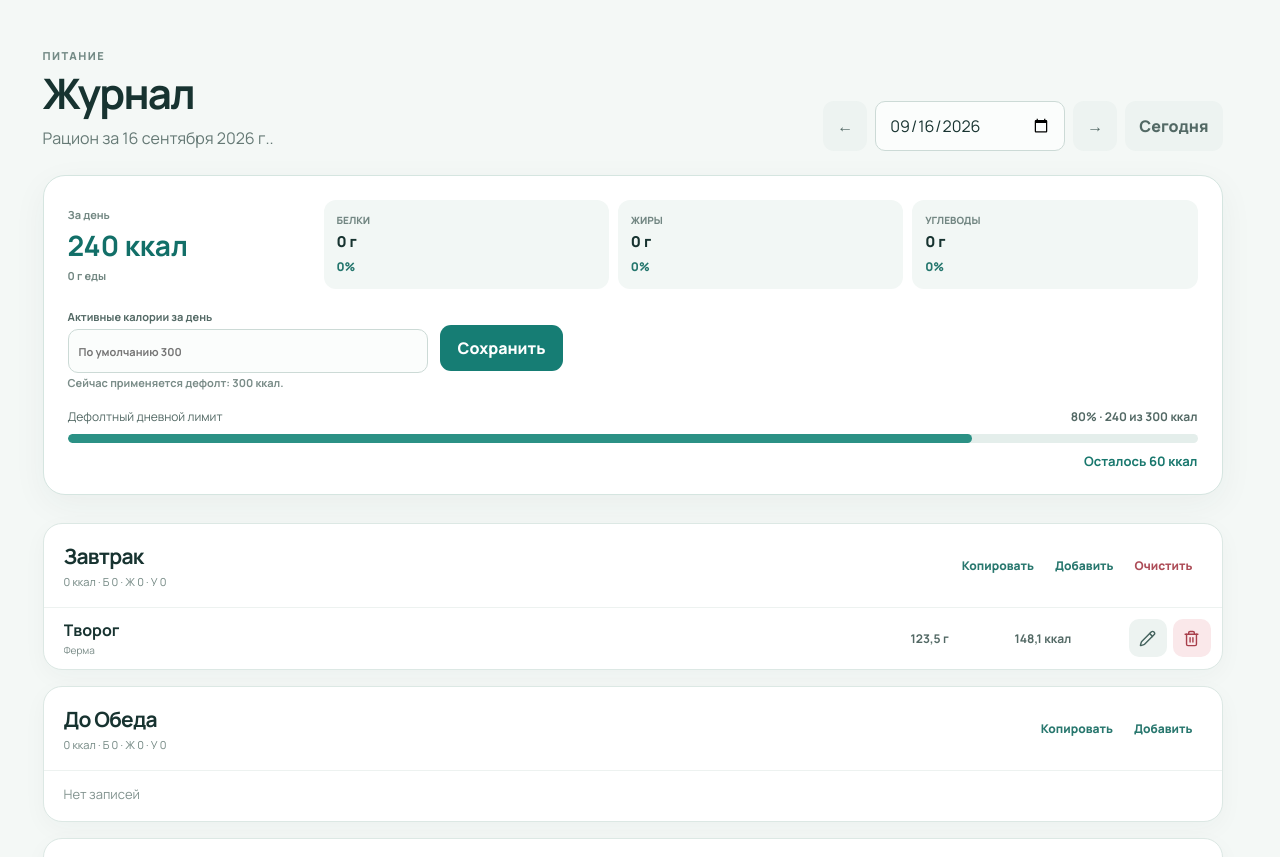
Test: активные калории в журнале › редактирует вес продукта прямо в журнале
Click the button named "Редактировать Творог в завтрак": [1148, 638] box [1128,619,1166,657]
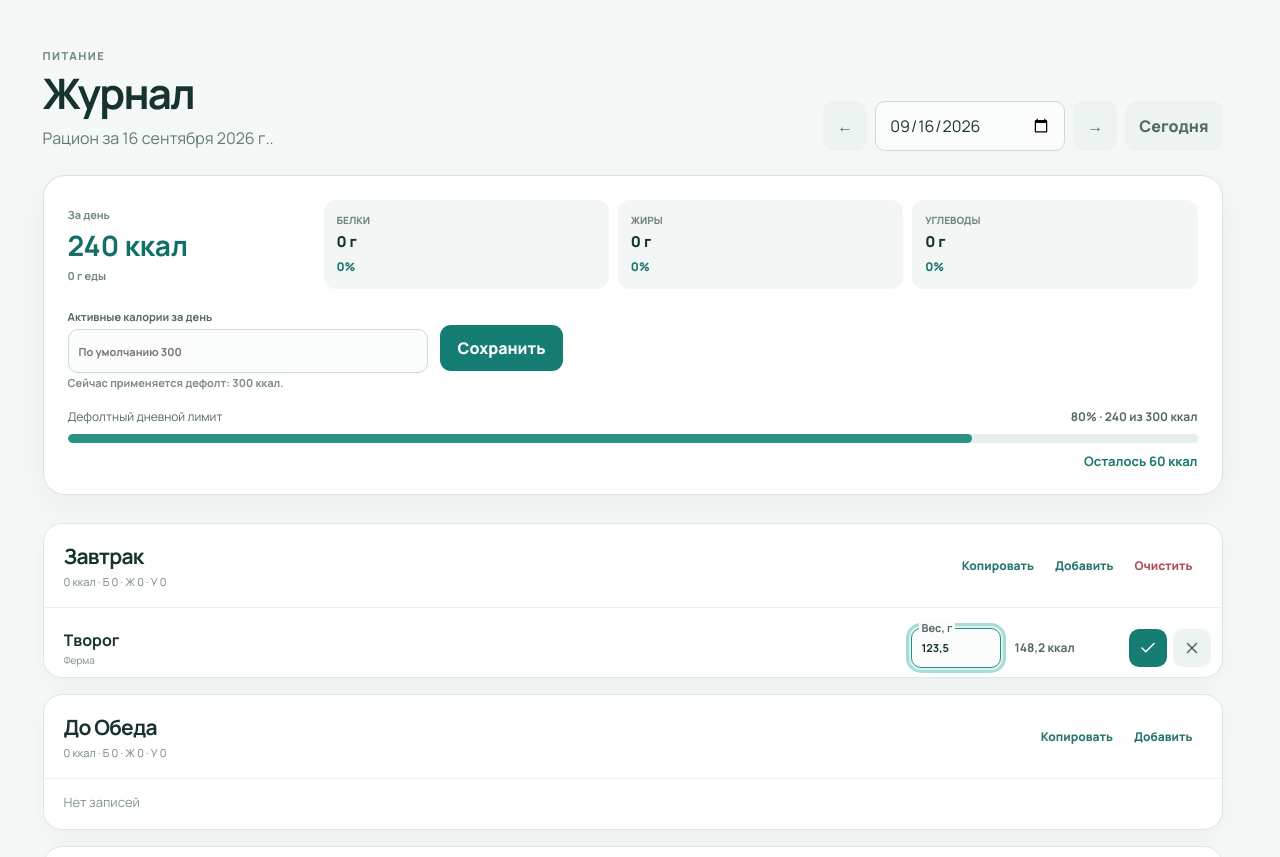
Expected: the field named "Вес продукта Творог" holds "123,5"
Replace the text in the field named "Вес продукта Творог" with "150,5": [956, 648] box [910,628,1000,668]
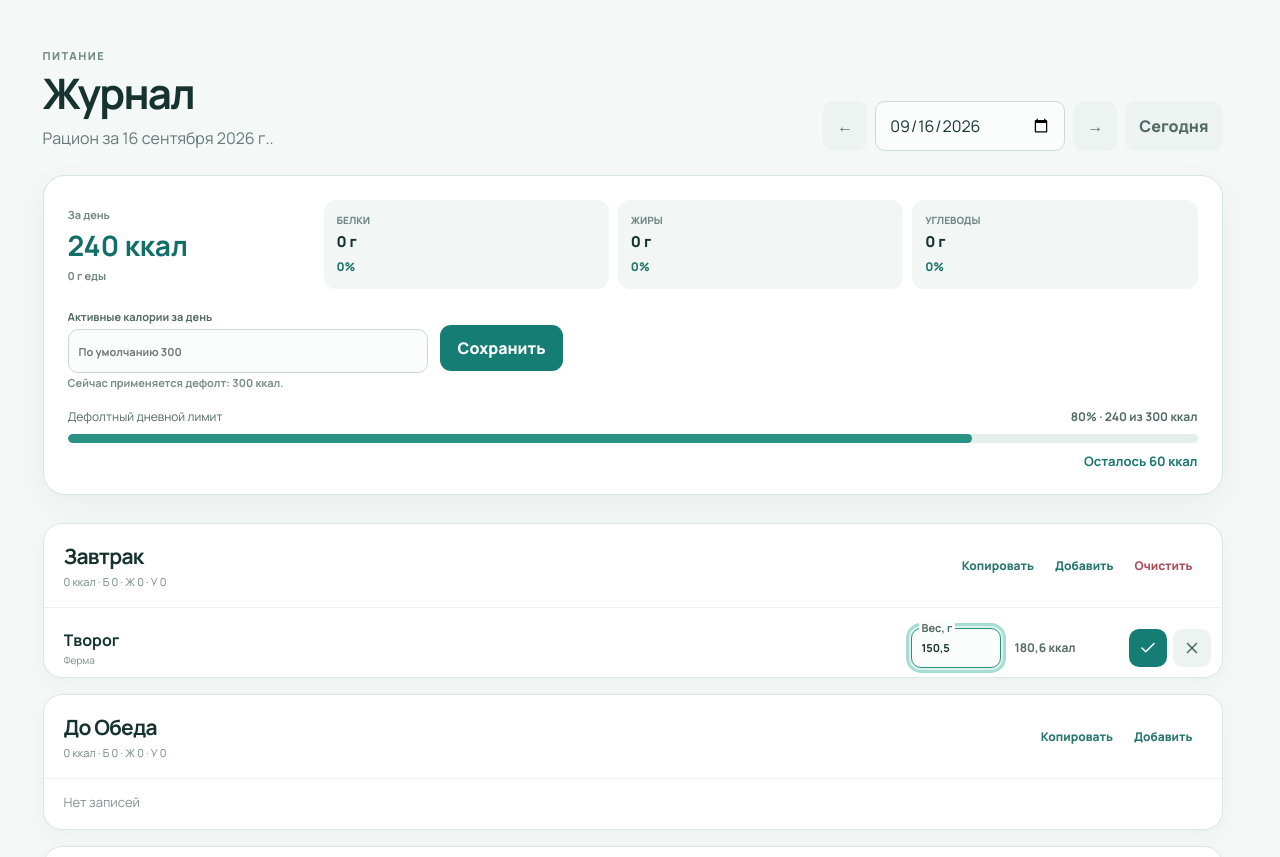
Click the button named "Сохранить вес продукта Творог": [1148, 648] box [1128,629,1166,667]
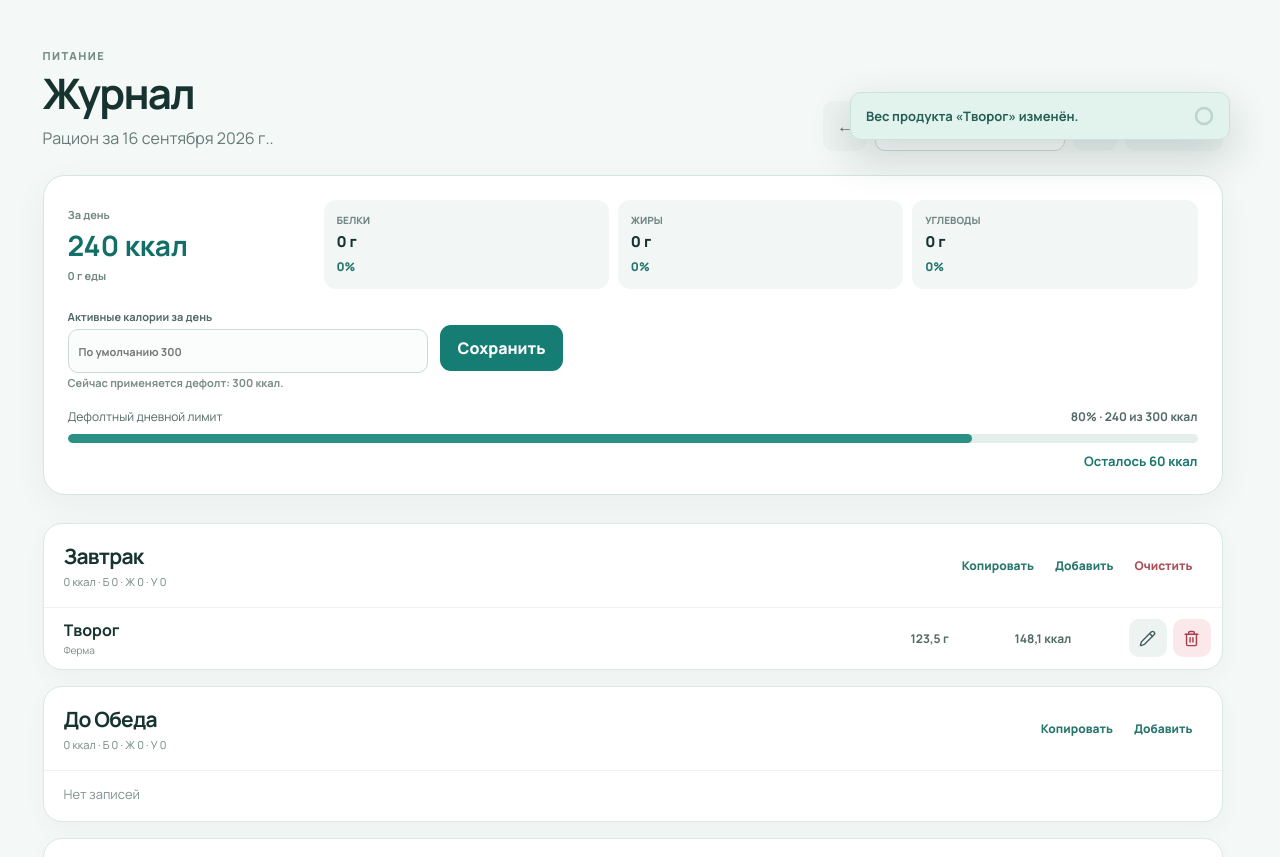
Expected: the text "Вес продукта «Творог» изменён." is shown, [866,107,1079,125]
